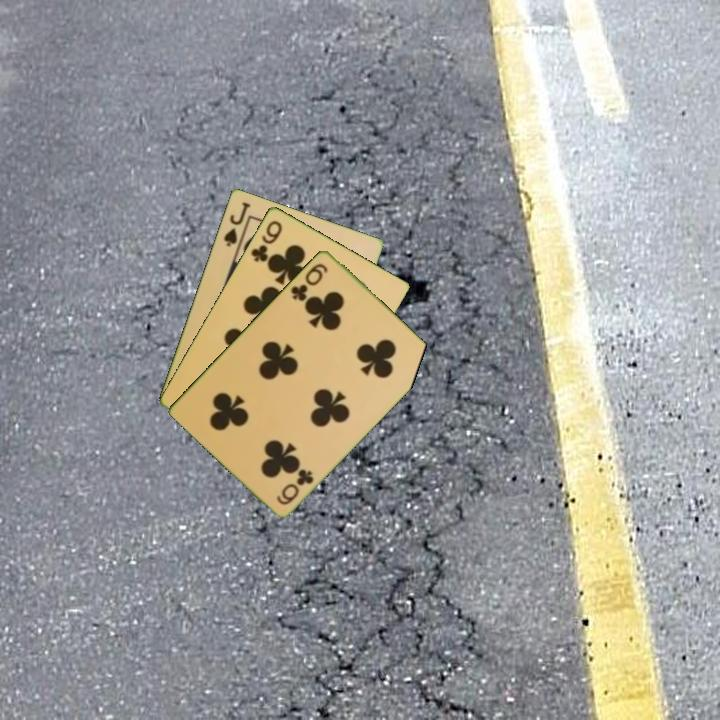6c: (287, 259, 331, 304), (273, 465, 317, 508)
9c: (247, 216, 285, 264)
Js: (220, 198, 253, 249)
